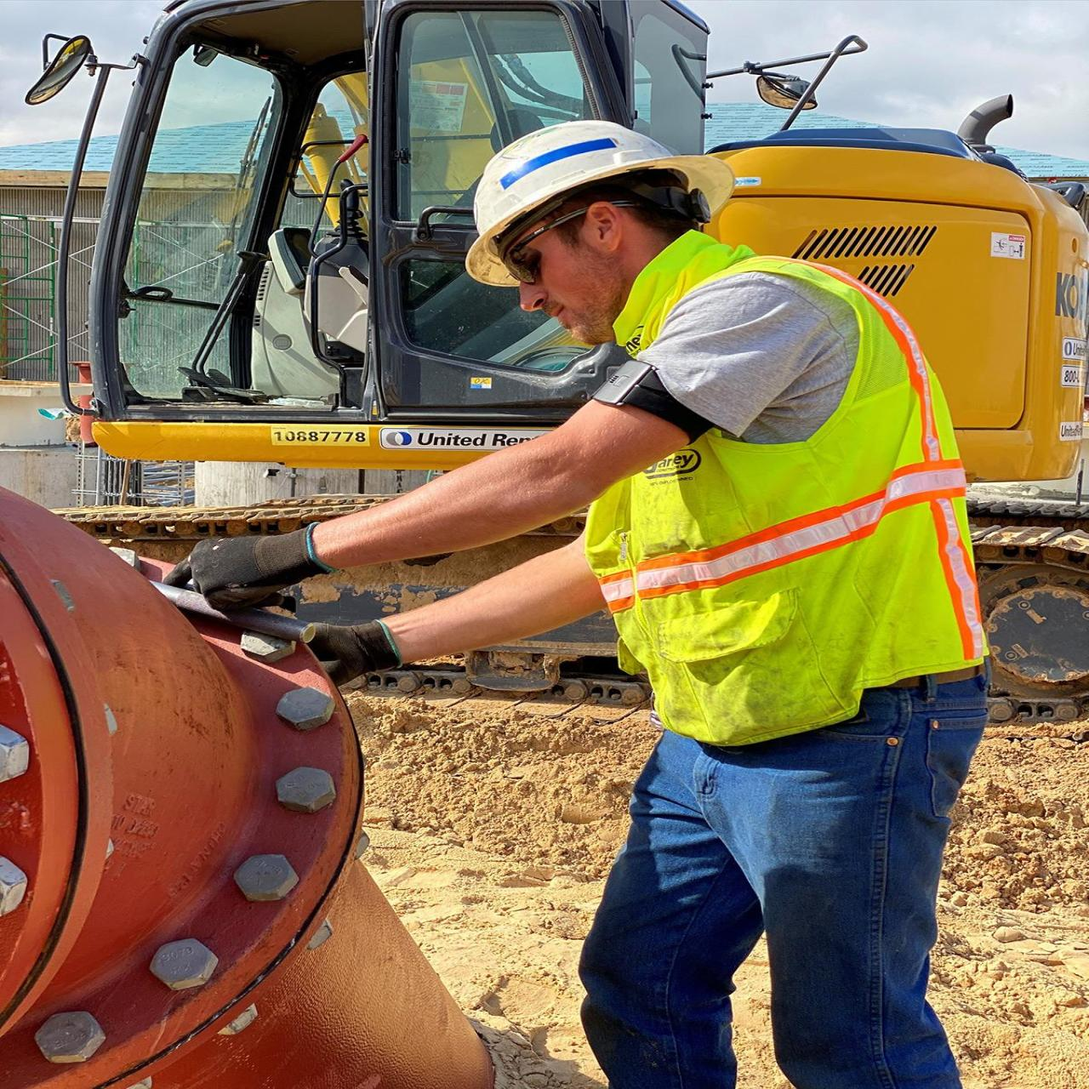Person: (152, 99, 1016, 1089)
Safety_Vest: (578, 277, 1000, 745)
